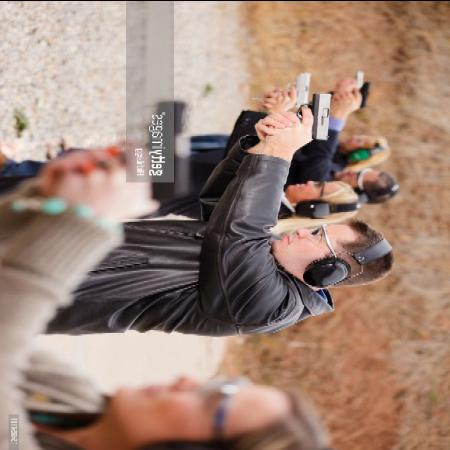Pistol: (310, 90, 338, 146)
